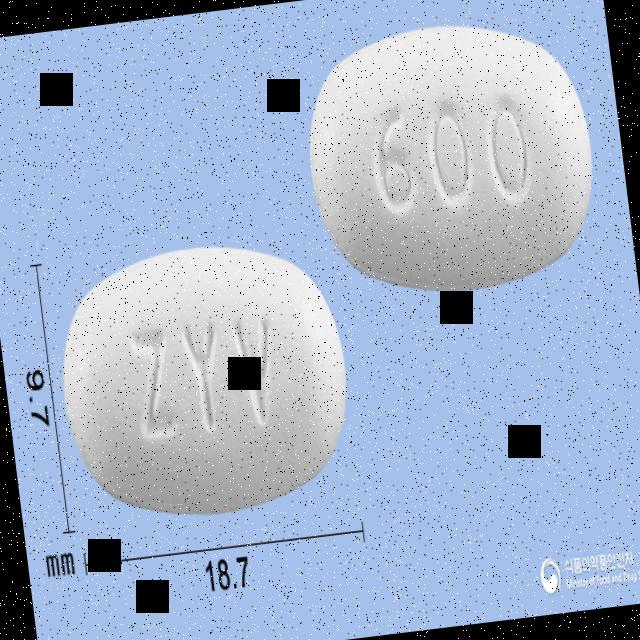Zyvox Tab: (47, 229, 361, 532), (294, 8, 606, 308)
